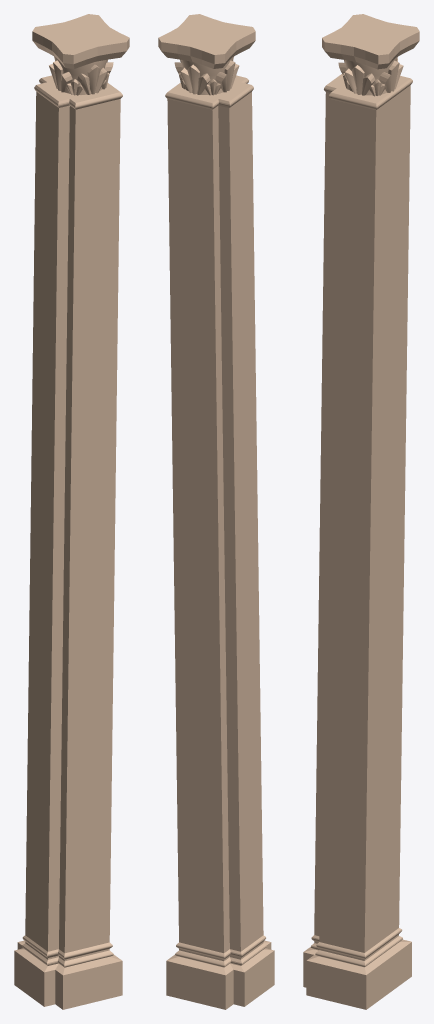
File: BC_InsidePillar_F.fbx
3 renders of one model, left to right at view 1: azimuth 30°, elevation 25°; view 2: azimuth 150°, elevation 25°; view 3: azimuth 330°, elevation 25°, orthographic.
Parts seen in each view (by area): view 1: BC_InsidePillar_F; view 2: BC_InsidePillar_F; view 3: BC_InsidePillar_F.
Part boxes in pixels (x1=…): BC_InsidePillar_F: x1=14, y1=14, x2=129, y2=1009; BC_InsidePillar_F: x1=158, y1=14, x2=274, y2=1009; BC_InsidePillar_F: x1=303, y1=14, x2=419, y2=1009.
Size of the model in its own units: 190 by 2014 by 175.
